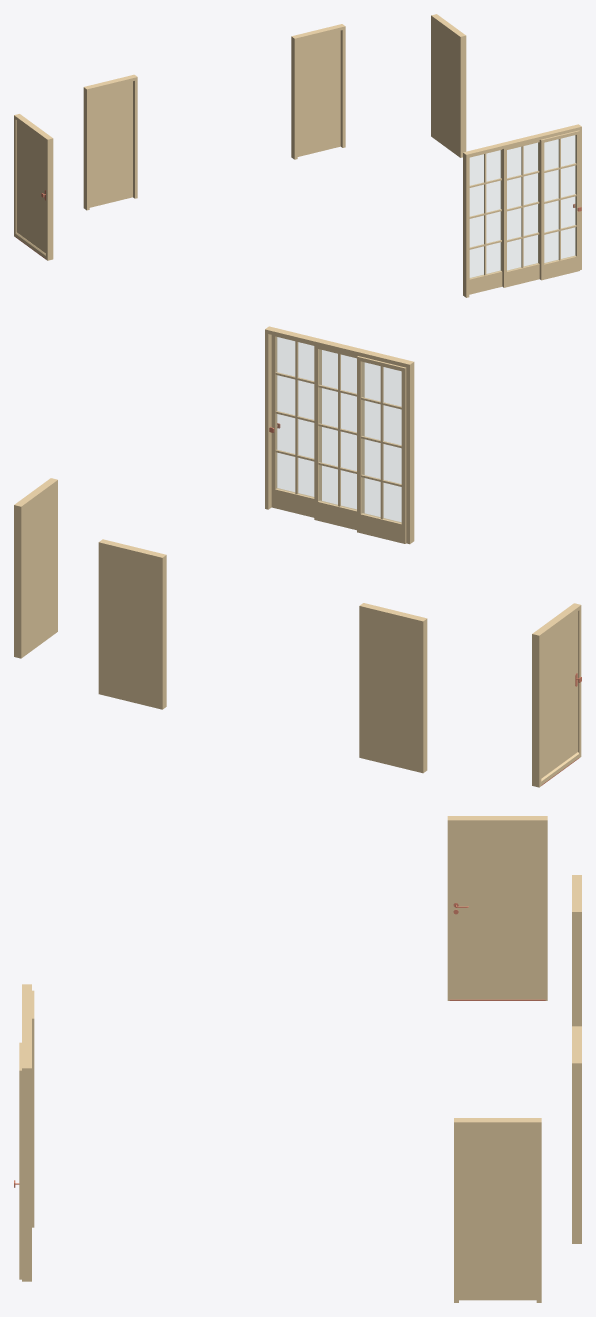
Rendered from model-part.gltf_doors_allFloors.gltf.
3 renders of one model, top to bottom at view 1: azimuth 30°, elevation 25°; view 2: azimuth 150°, elevation 25°; view 3: azimuth 270°, elevation 25°, orthographic. The views are drawn at different scales.
Size of the model in its own units: 7.35 by 2.38 by 5.73.
